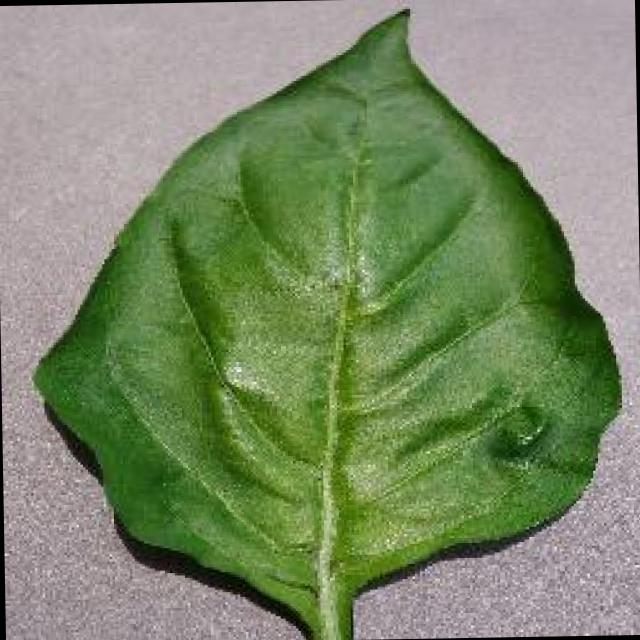Chilli_Healthy: (22, 2, 625, 640)
